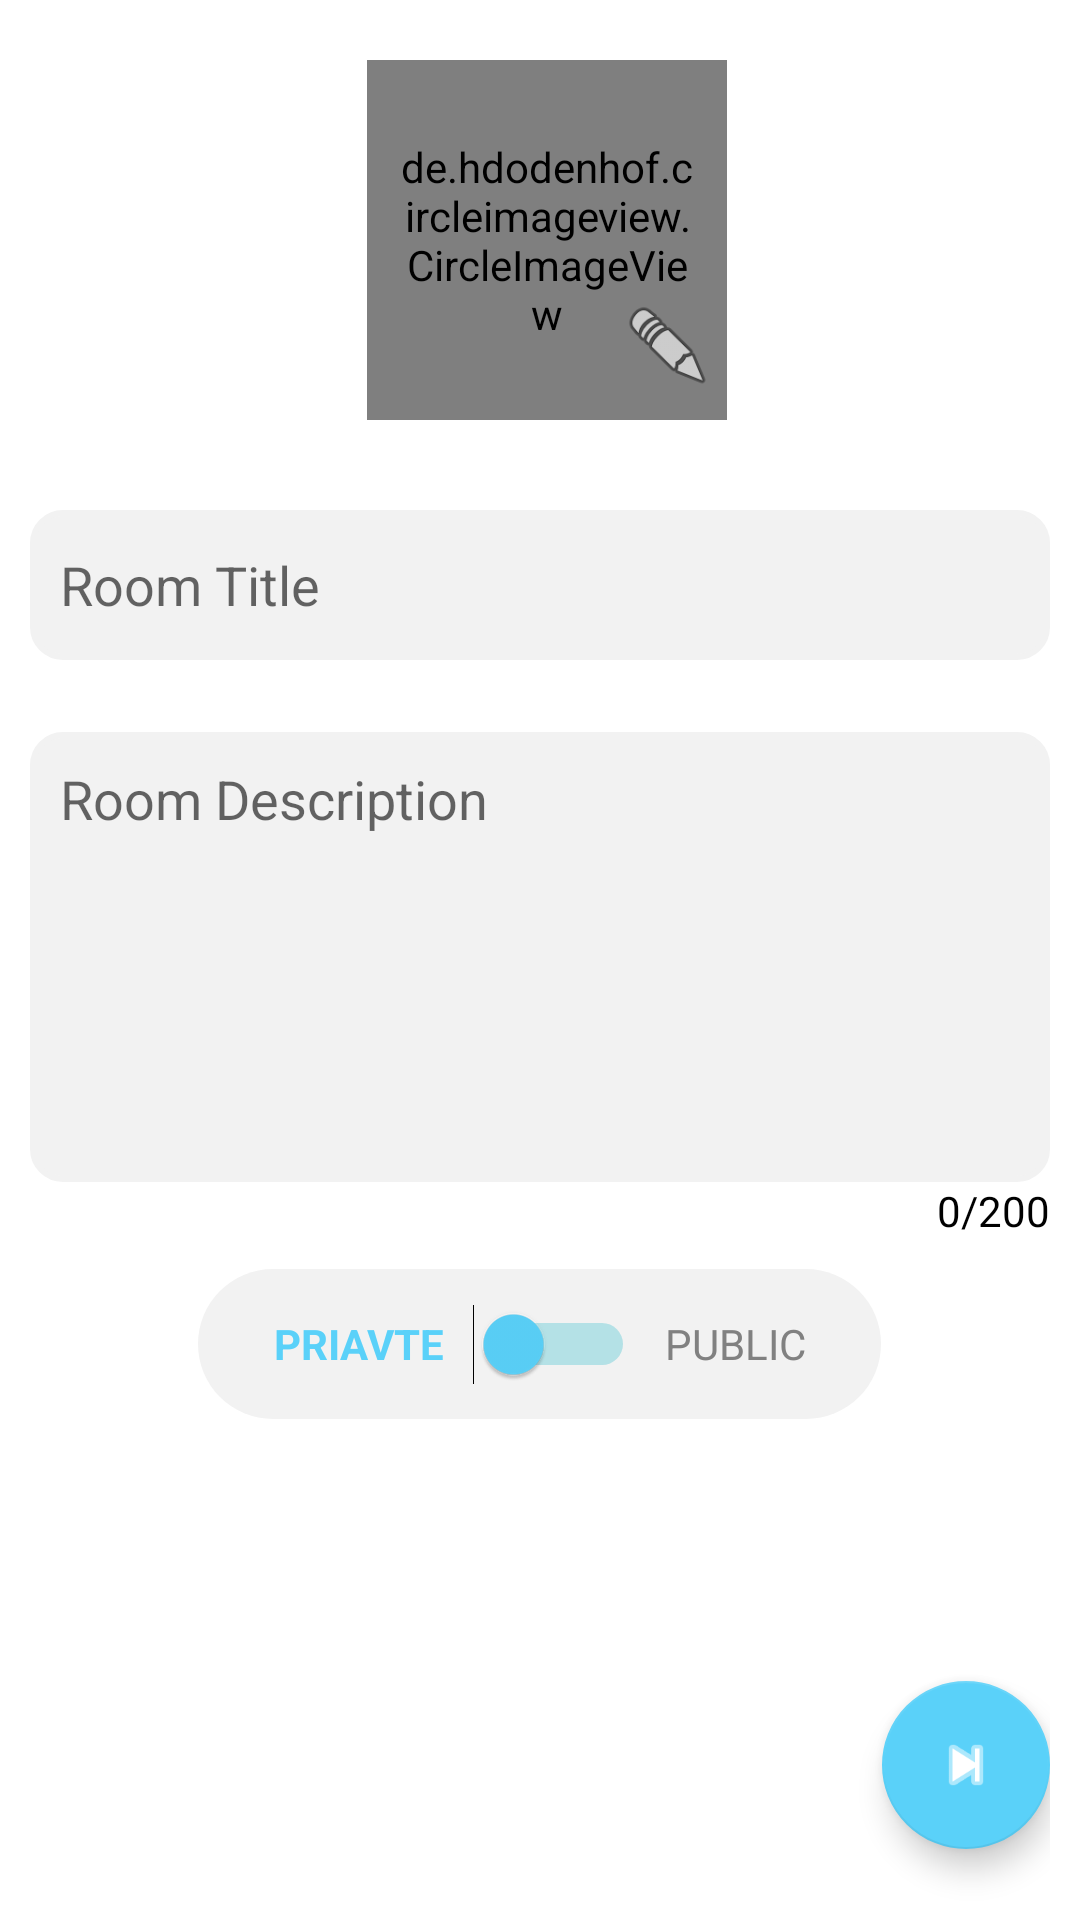

Icon click points for this 1080x1920 phone screenshot, format (x=x, y=y):
next: (x=966, y=1765)
